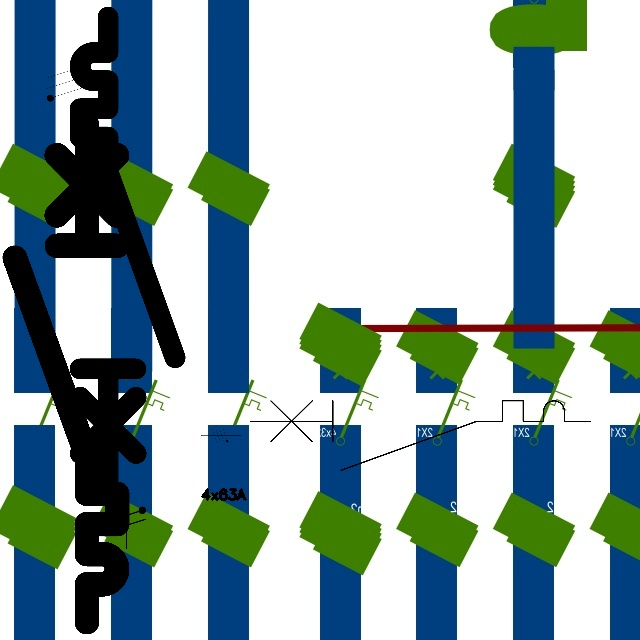interruptor_termomagnetico: (2, 112, 130, 635), (68, 5, 187, 493), (241, 392, 598, 479)
